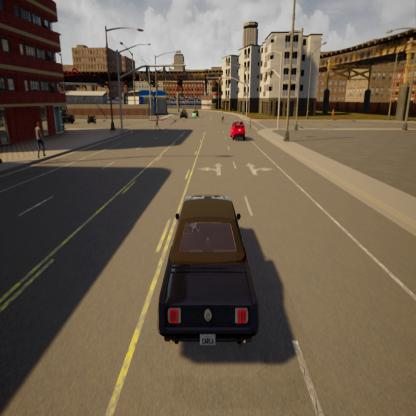Cars: (155, 178, 263, 357), (228, 116, 247, 143), (62, 107, 76, 126), (86, 106, 98, 127), (180, 105, 188, 120), (190, 108, 199, 121)
Pedestrian: (31, 114, 48, 159), (152, 111, 164, 137), (248, 114, 254, 136), (221, 109, 227, 129), (145, 107, 150, 121)
